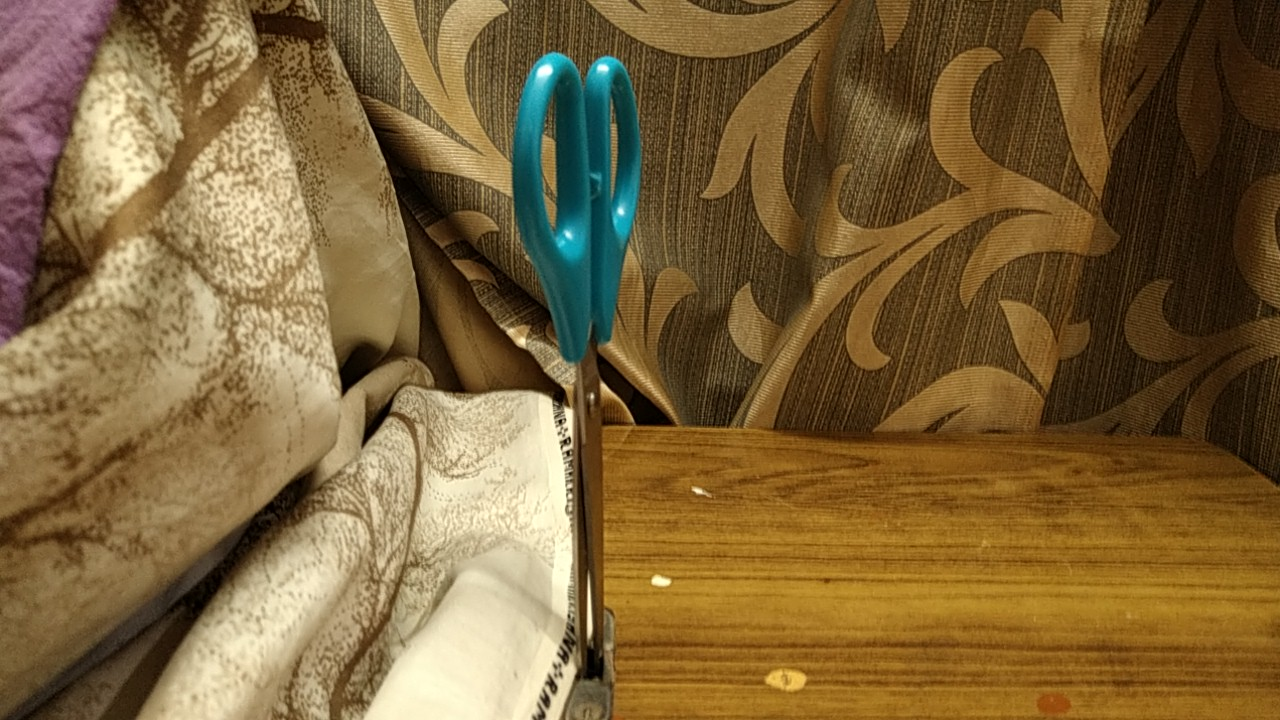scissor: (483, 40, 685, 699)
